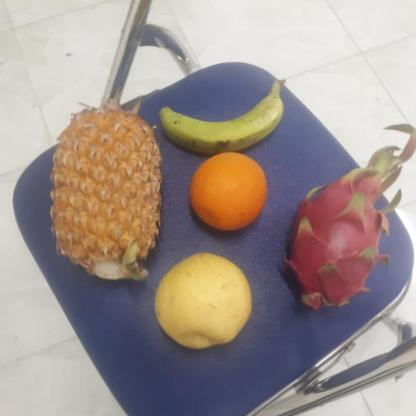banana: (156, 82, 281, 155)
orange: (186, 149, 271, 233)
pear: (151, 254, 253, 350)
pineapple: (45, 109, 164, 282)
pitaya: (278, 173, 386, 313)
